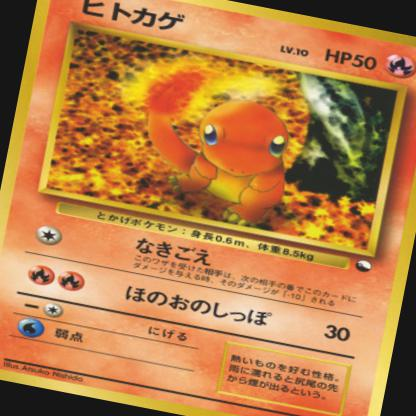Charmander: (129, 66, 312, 235)
